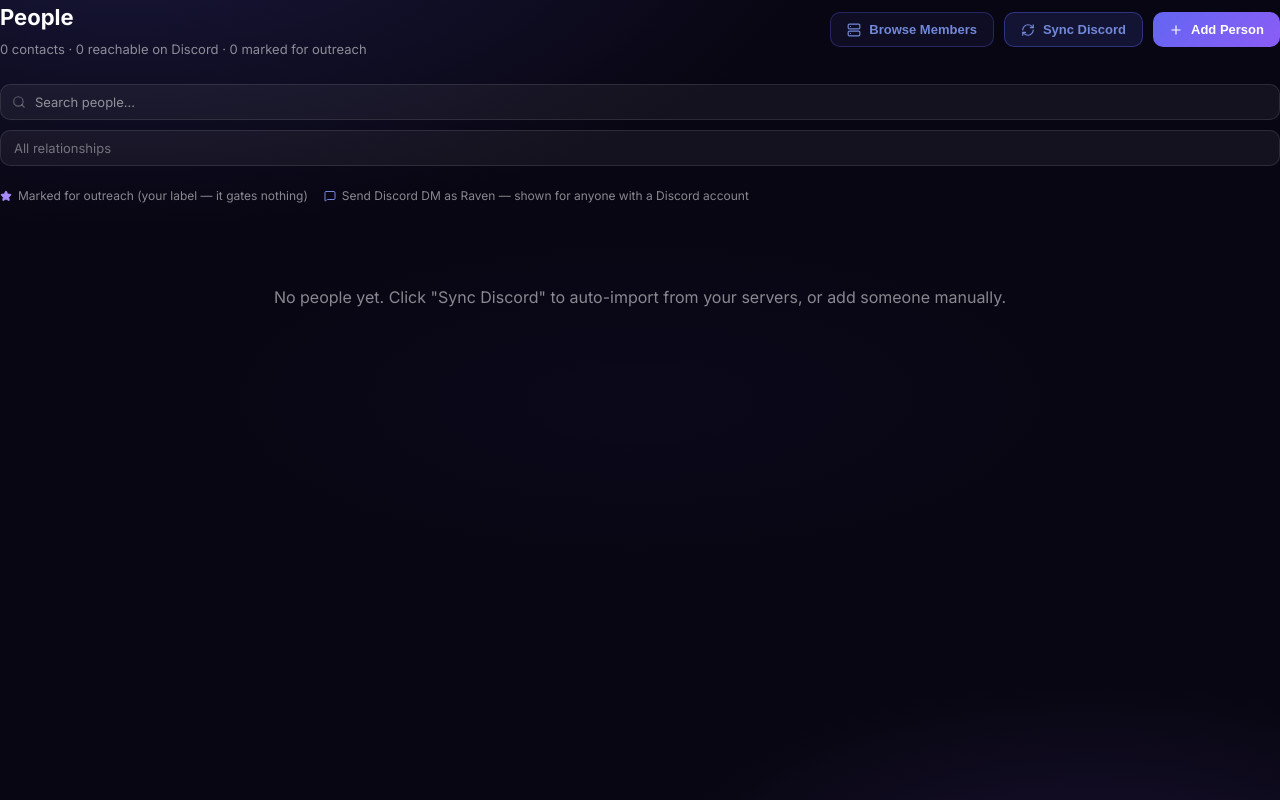
Test: GuildPickerModal — all servers › shows the whole list when the request succeeds
Click the button "Browse Members" at [912, 30], box left=830, top=12, right=994, bottom=48
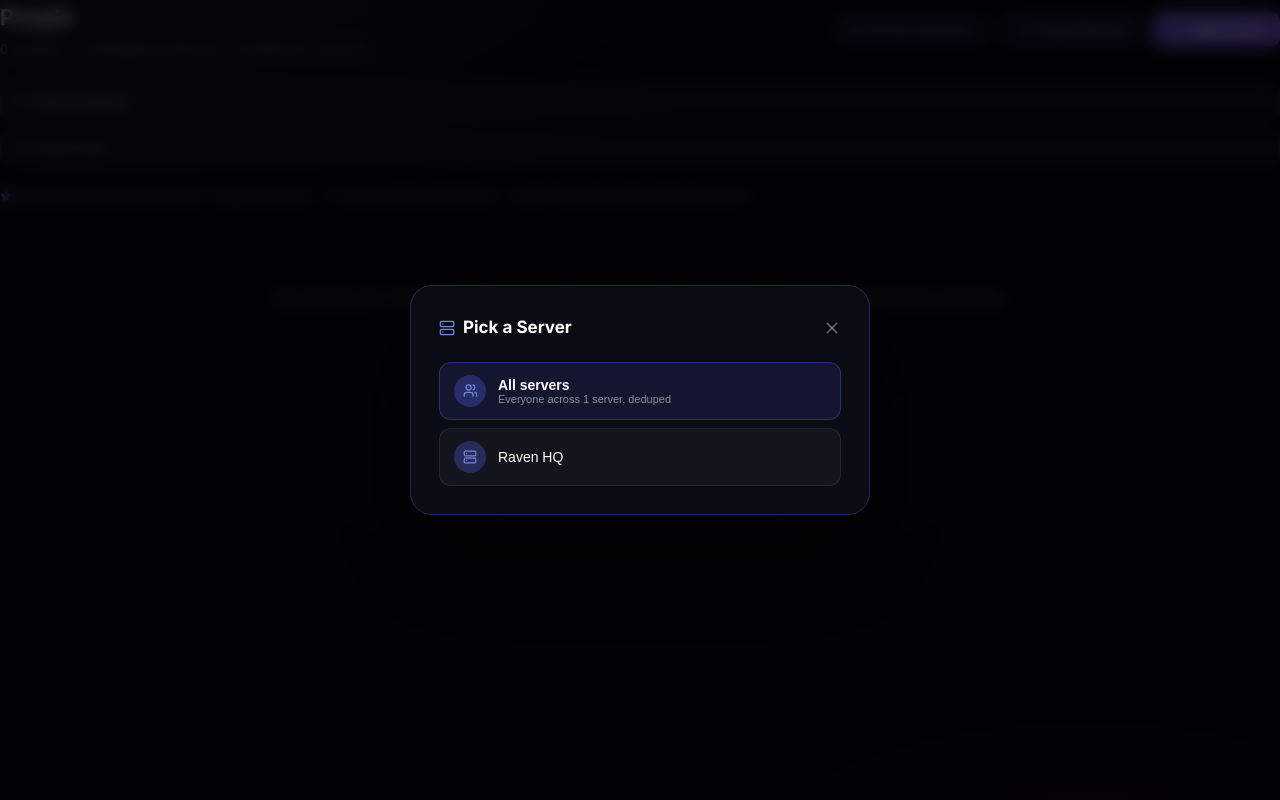
Click the text "All servers" at [534, 385], box left=498, top=377, right=570, bottom=393
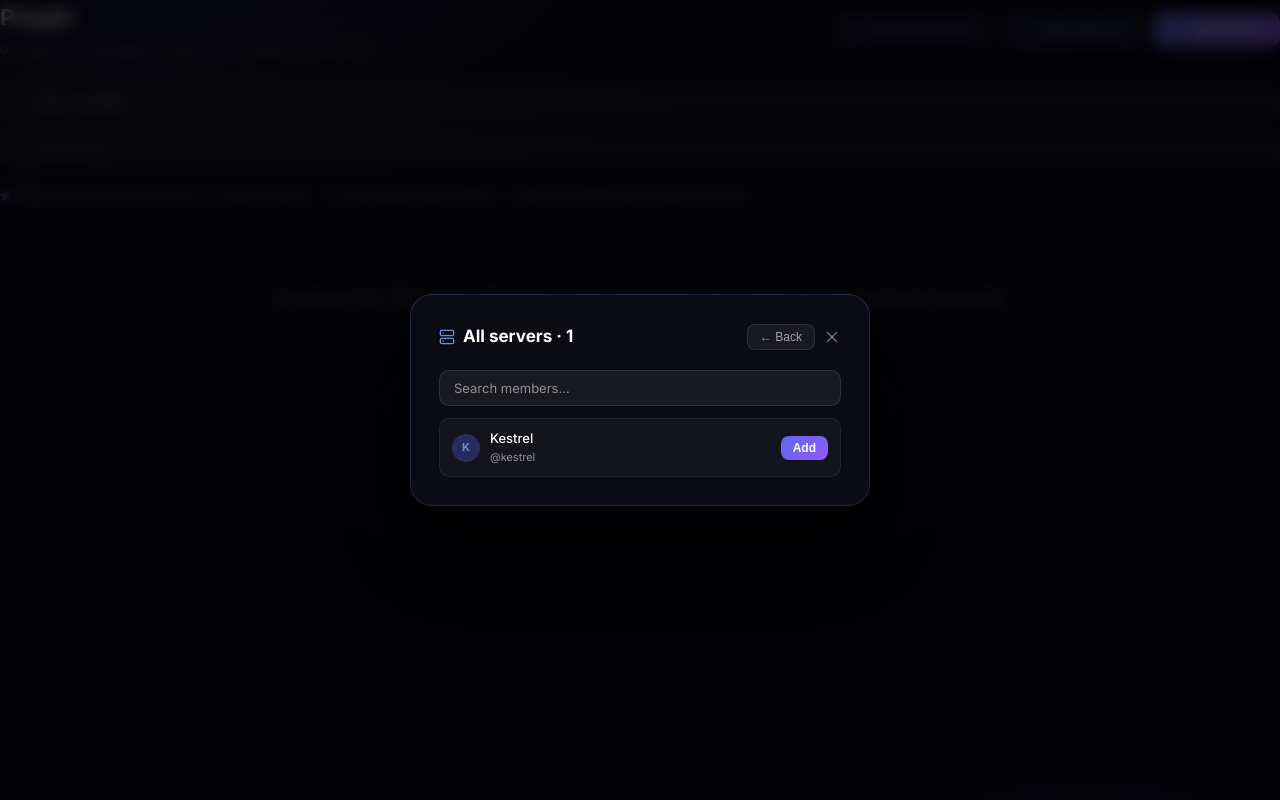
Now the text "Kestrel" is shown, box left=490, top=430, right=533, bottom=446
